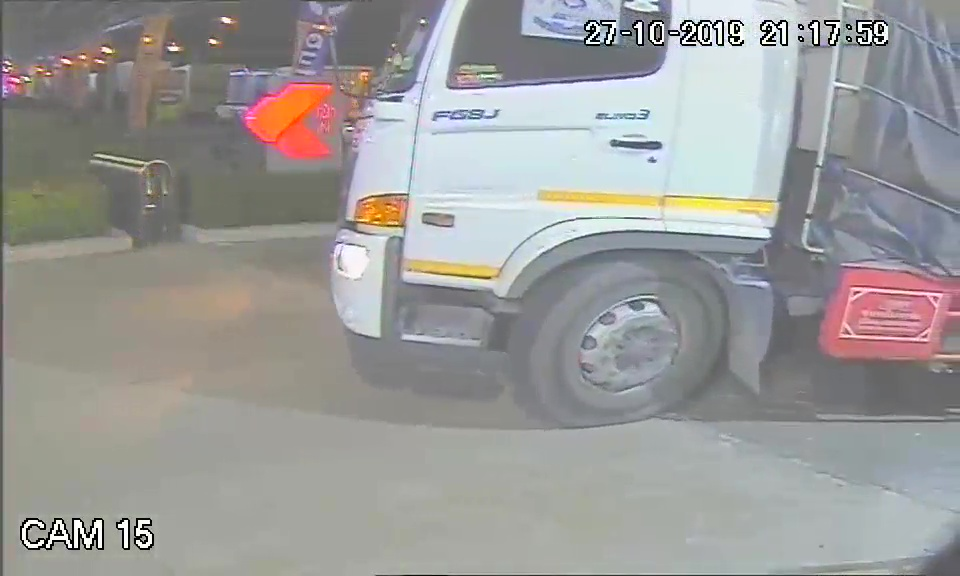truck: (334, 3, 795, 459)
